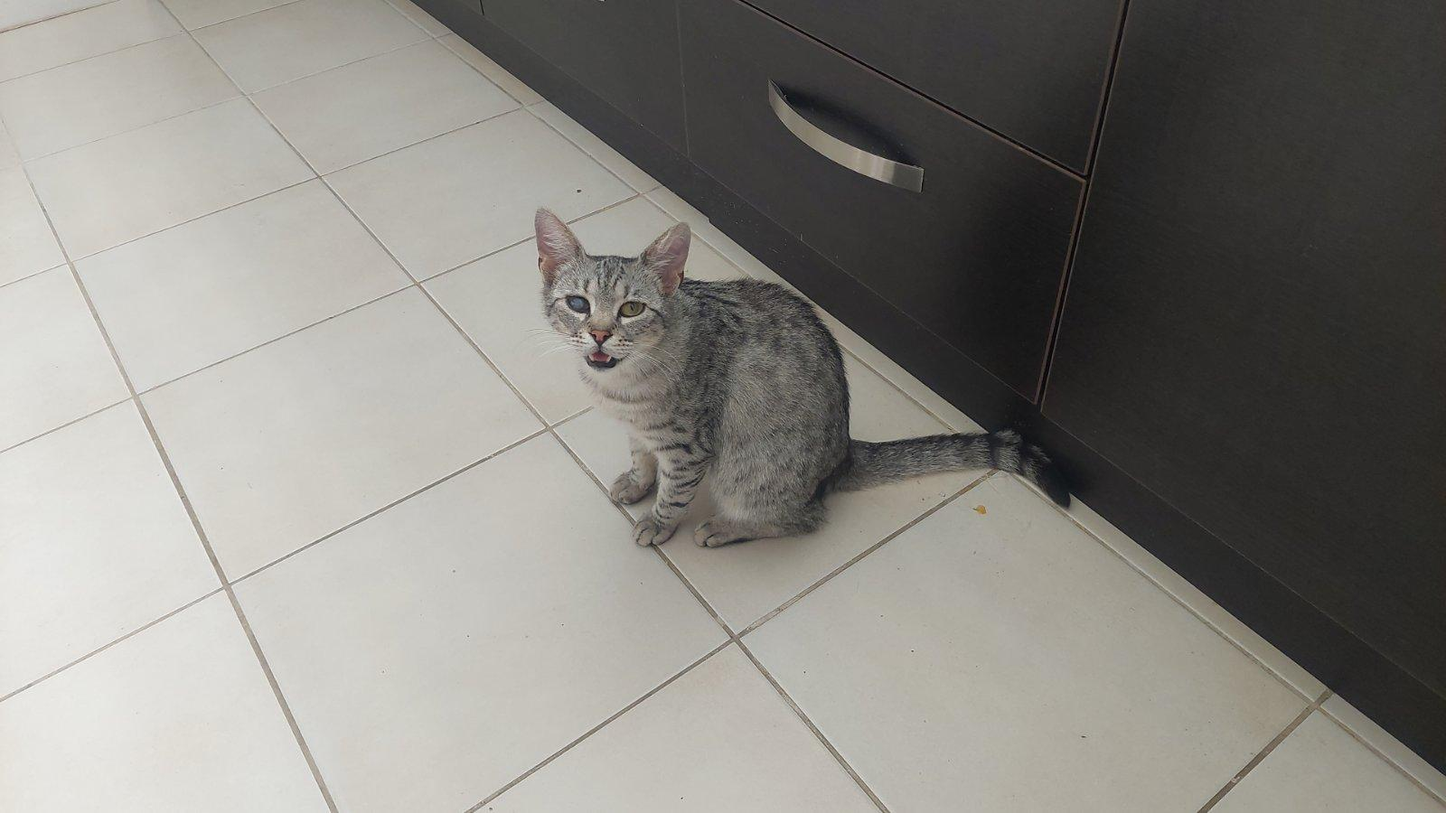macka: (536, 207, 1072, 550)
